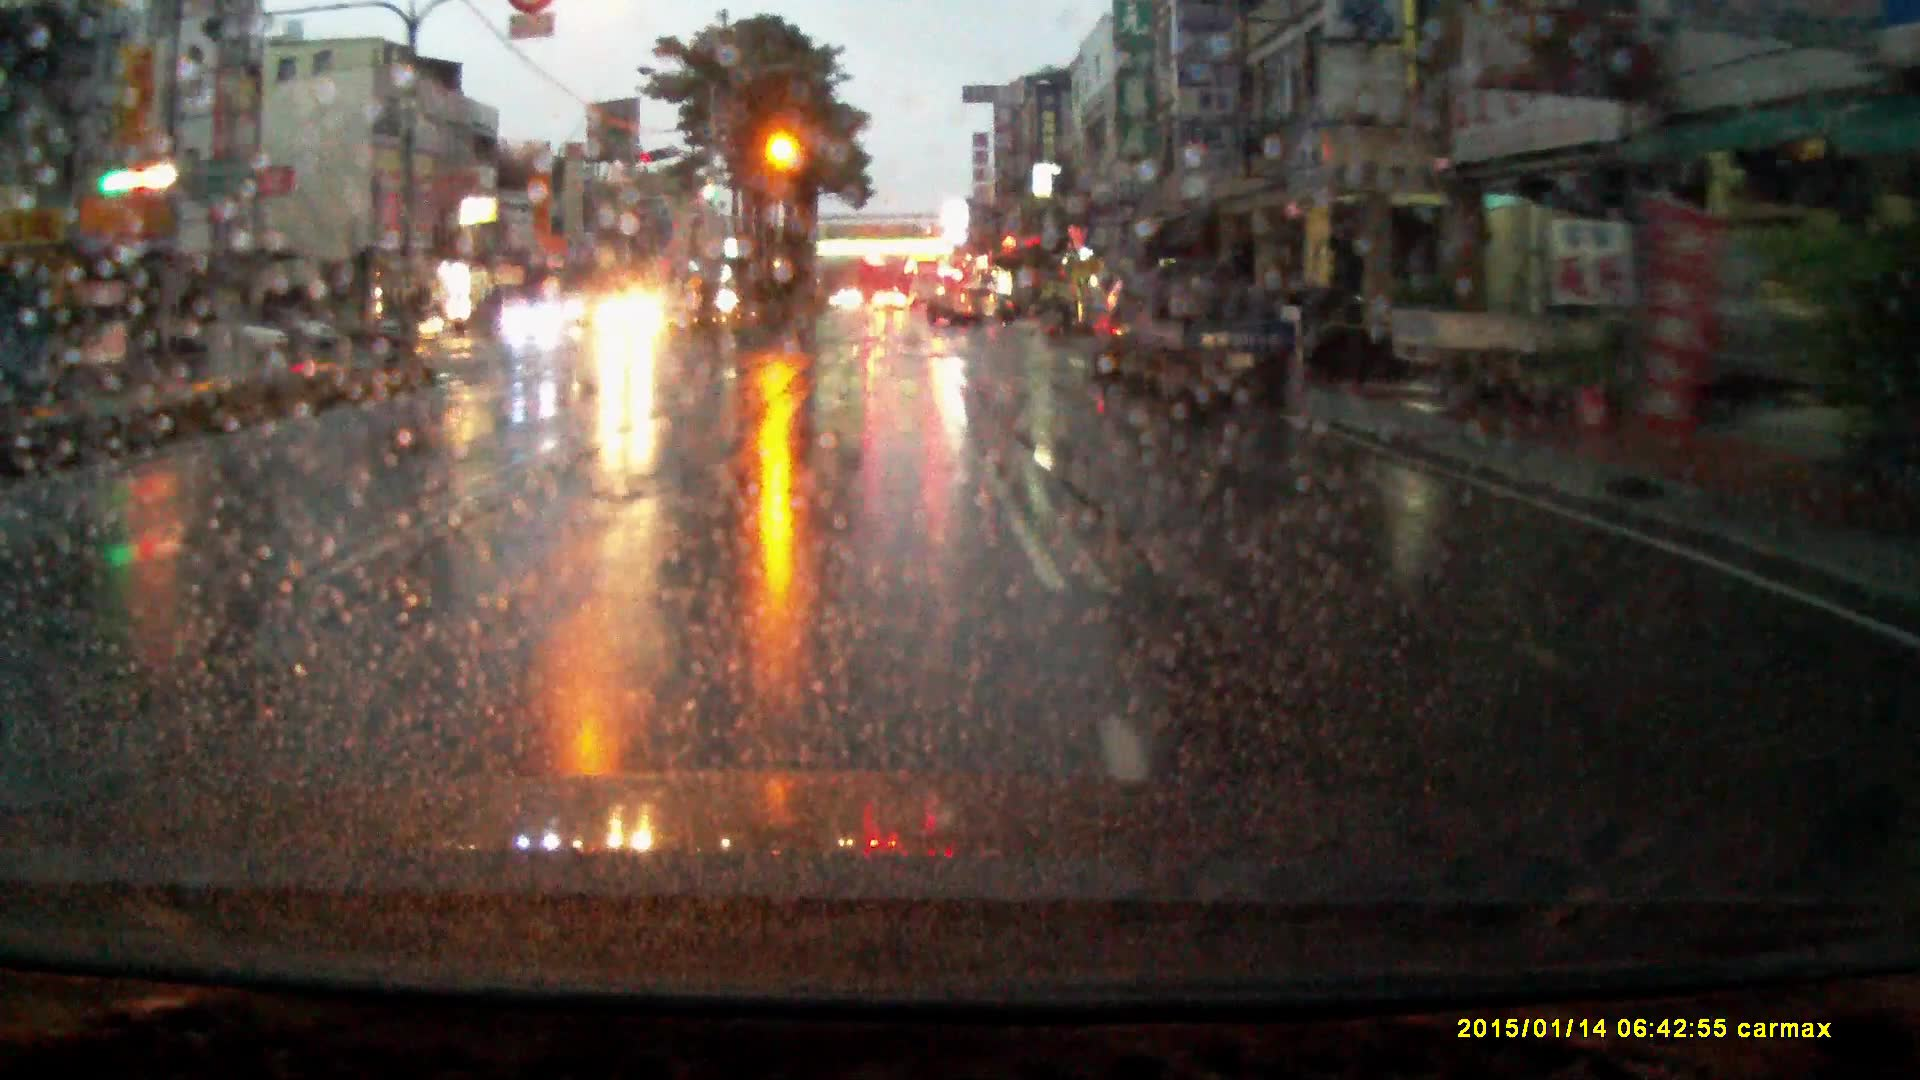vehicle: (1387, 307, 1633, 401), (1134, 258, 1291, 400), (161, 310, 284, 360), (1095, 274, 1135, 382), (593, 287, 670, 344), (262, 309, 343, 353), (927, 284, 998, 328), (377, 301, 442, 349), (506, 298, 568, 342), (910, 258, 945, 305), (872, 287, 909, 315)
